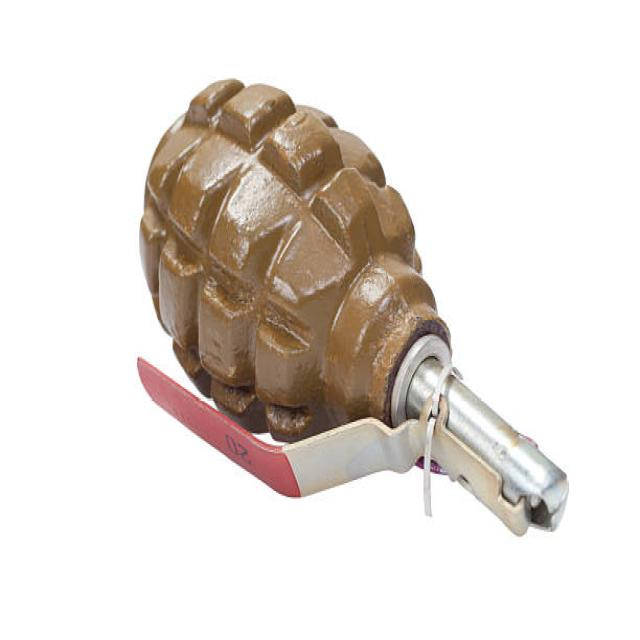grenade: (127, 67, 577, 548)
